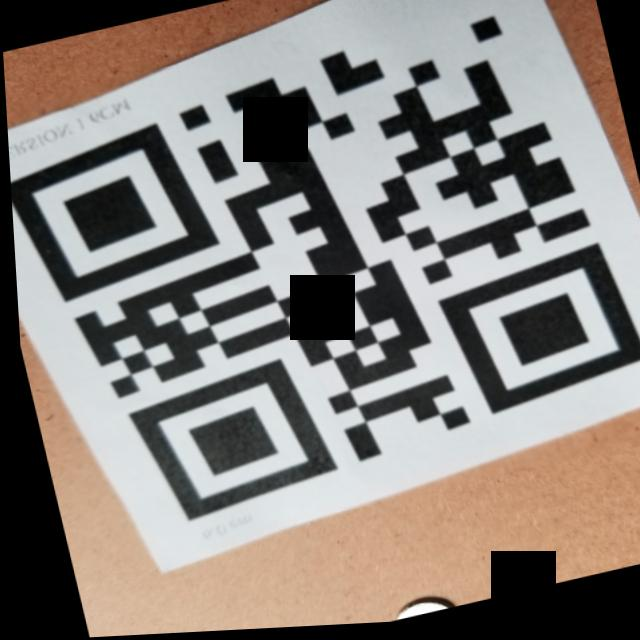QR_CODE: (0, 0, 640, 572)
